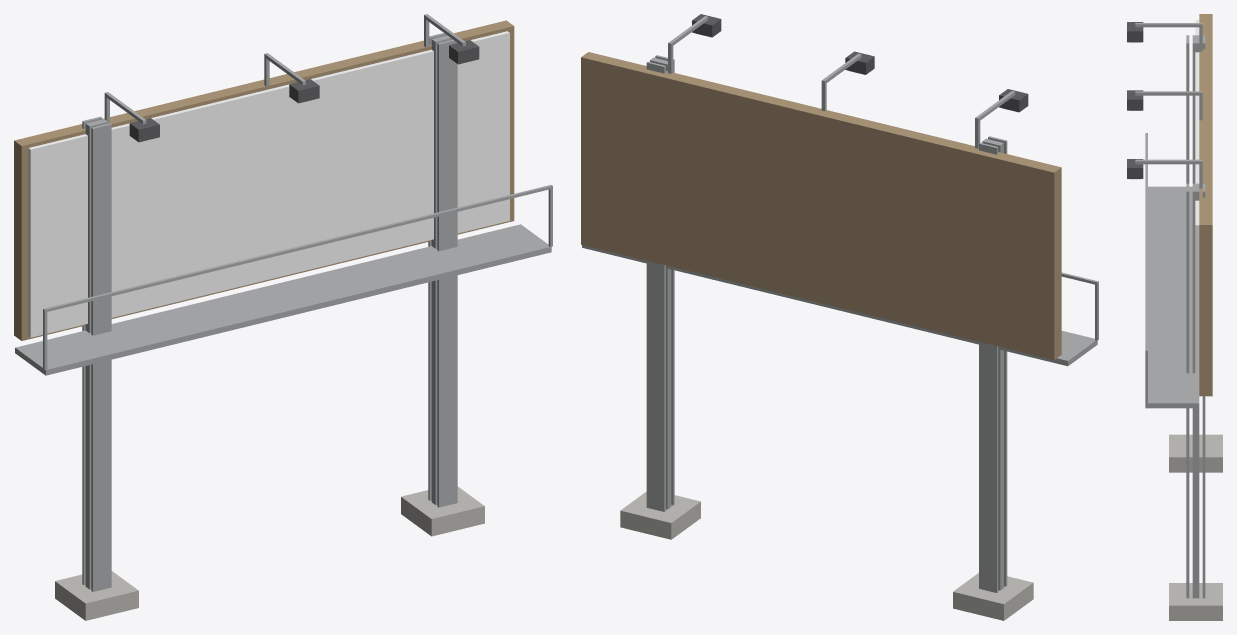
Rendered from billboard.glb.
3 renders of one model, left to right at view 1: azimuth 30°, elevation 25°; view 2: azimuth 150°, elevation 25°; view 3: azimuth 270°, elevation 25°, orthographic. The views are drawn at different scales.
Parts seen in each view (by area): view 1: NC_billboard; view 2: NC_billboard; view 3: NC_billboard.
Boxes of the visible parts, left/top/right/bottom form: NC_billboard: left=14, top=14, right=552, bottom=620; NC_billboard: left=581, top=14, right=1098, bottom=620; NC_billboard: left=1127, top=14, right=1222, bottom=620.
Bounding box in the file's own units: 7.64 × 7.25 × 1.42.
